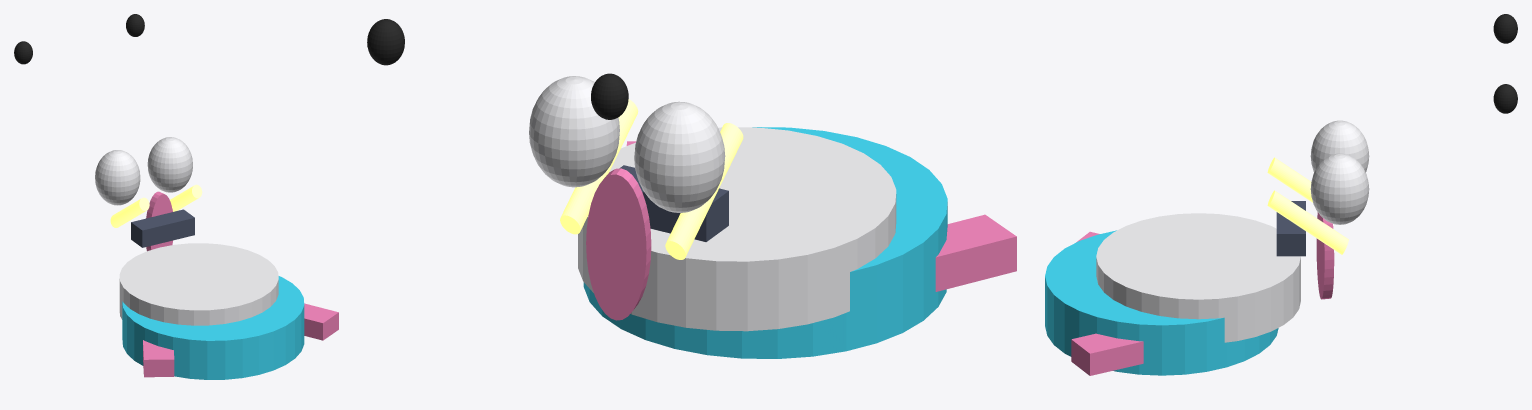
The model's file is player-death-enemy.glb.
The picture shows the model from 3 angles, left to right: view 1: azimuth 30°, elevation 25°; view 2: azimuth 150°, elevation 25°; view 3: azimuth 270°, elevation 25°; orthographic projection. The views are drawn at different scales.
Visible parts, largest first — view 1: Squash_Head, Squash_Torso, Squash_Eye_L, Squash_Eye_R, Squash_Visor, Squash_Boot_R, Squash_Boot_L, Squash_Tongue, Squash_Spring_L, Squash_Spring_R, Squash_Pupil_L, Squash_Pupil_R; view 2: Squash_Head, Squash_Torso, Squash_Eye_L, Squash_Tongue, Squash_Eye_R, Squash_Boot_L, Squash_Spring_L, Squash_Visor, Squash_Spring_R, Squash_Pupil_L, Squash_Pupil_R; view 3: Squash_Head, Squash_Torso, Squash_Eye_R, Squash_Boot_R, Squash_Eye_L, Squash_Spring_R, Squash_Visor, Squash_Tongue, Squash_Spring_L, Squash_Pupil_R, Squash_Pupil_L.
Part boxes in pixels (left/top/right/bottom): Squash_Head: left=119, top=243, right=278, bottom=325; Squash_Torso: left=122, top=276, right=304, bottom=379; Squash_Eye_L: left=95, top=150, right=140, bottom=205; Squash_Eye_R: left=147, top=137, right=192, bottom=192; Squash_Visor: left=131, top=209, right=194, bottom=247; Squash_Boot_R: left=304, top=303, right=338, bottom=340; Squash_Boot_L: left=143, top=340, right=174, bottom=377; Squash_Tongue: left=146, top=191, right=172, bottom=251; Squash_Spring_L: left=110, top=197, right=149, bottom=227; Squash_Spring_R: left=170, top=184, right=202, bottom=211; Squash_Pupil_L: left=14, top=41, right=32, bottom=64; Squash_Pupil_R: left=126, top=14, right=144, bottom=36; Squash_Head: left=578, top=127, right=896, bottom=331; Squash_Torso: left=583, top=127, right=947, bottom=358; Squash_Eye_L: left=634, top=101, right=725, bottom=212; Squash_Tongue: left=586, top=168, right=651, bottom=320; Squash_Eye_R: left=529, top=76, right=619, bottom=187; Squash_Boot_L: left=935, top=214, right=1016, bottom=291; Squash_Spring_L: left=665, top=123, right=743, bottom=259; Squash_Visor: left=619, top=165, right=728, bottom=241; Squash_Spring_R: left=560, top=99, right=638, bottom=234; Squash_Pupil_L: left=591, top=73, right=628, bottom=119; Squash_Pupil_R: left=367, top=19, right=404, bottom=65; Squash_Head: left=1096, top=213, right=1300, bottom=342; Squash_Torso: left=1045, top=230, right=1278, bottom=375; Squash_Eye_R: left=1310, top=153, right=1369, bottom=224; Squash_Boot_R: left=1071, top=333, right=1143, bottom=375; Squash_Eye_L: left=1310, top=120, right=1369, bottom=172; Squash_Spring_R: left=1267, top=190, right=1348, bottom=254; Squash_Visor: left=1276, top=201, right=1305, bottom=256; Squash_Tongue: left=1316, top=212, right=1334, bottom=299; Squash_Spring_L: left=1267, top=157, right=1312, bottom=202; Squash_Pupil_R: left=1493, top=84, right=1517, bottom=113; Squash_Pupil_L: left=1493, top=14, right=1517, bottom=43.
Size of the model in its own units: 1.13 by 1.49 by 1.84.
